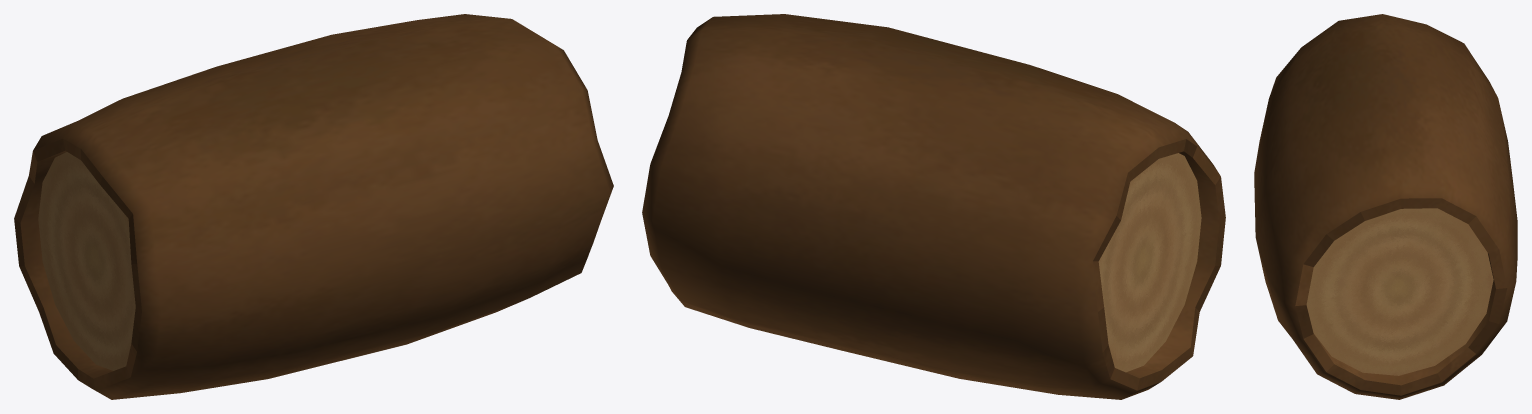
File: Log_1.glb
The picture shows the model from 3 angles, left to right: view 1: azimuth 30°, elevation 25°; view 2: azimuth 150°, elevation 25°; view 3: azimuth 270°, elevation 25°; orthographic projection. The views are drawn at different scales.
Parts seen in each view (by area): view 1: Cylinder_074; view 2: Cylinder_074; view 3: Cylinder_074.
Boxes of the visible parts, left/top/right/bottom form: Cylinder_074: left=14, top=14, right=613, bottom=399; Cylinder_074: left=642, top=14, right=1225, bottom=399; Cylinder_074: left=1254, top=14, right=1517, bottom=399.
Size of the model in its own units: 0.8688 by 0.4955 by 0.4917.
Materials: 2 (2 with a texture image).
